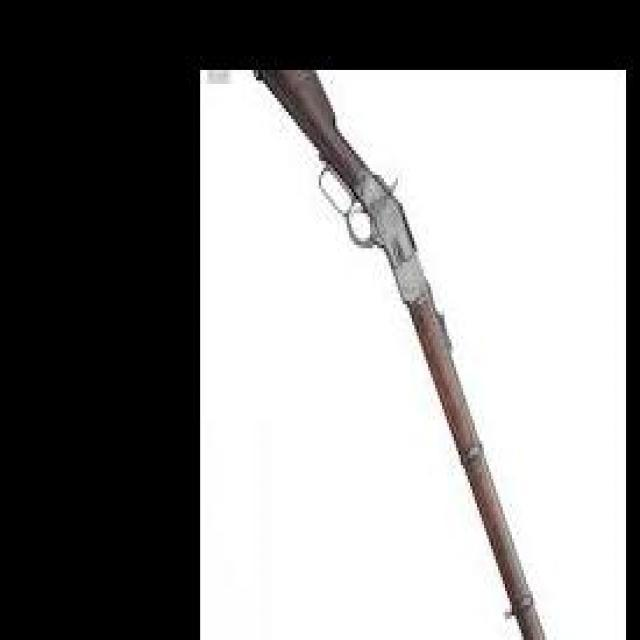weapon: (254, 70, 546, 640)
